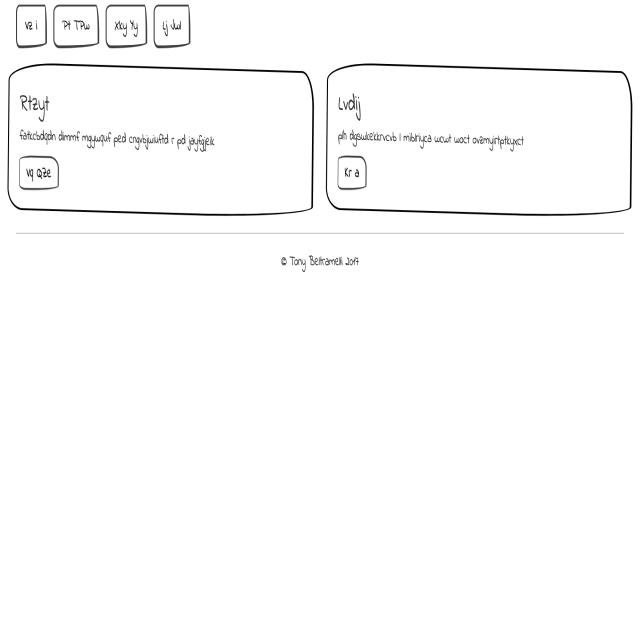Button: (18, 154, 60, 193), (336, 152, 368, 192)
Card: (324, 61, 633, 219), (8, 60, 317, 217)
Footer: (0, 227, 640, 640)
Heading 6: (16, 88, 50, 123), (336, 88, 366, 120)
Navigation Bar: (14, 1, 191, 50)
Paragraph: (18, 125, 216, 151), (337, 126, 523, 152)
